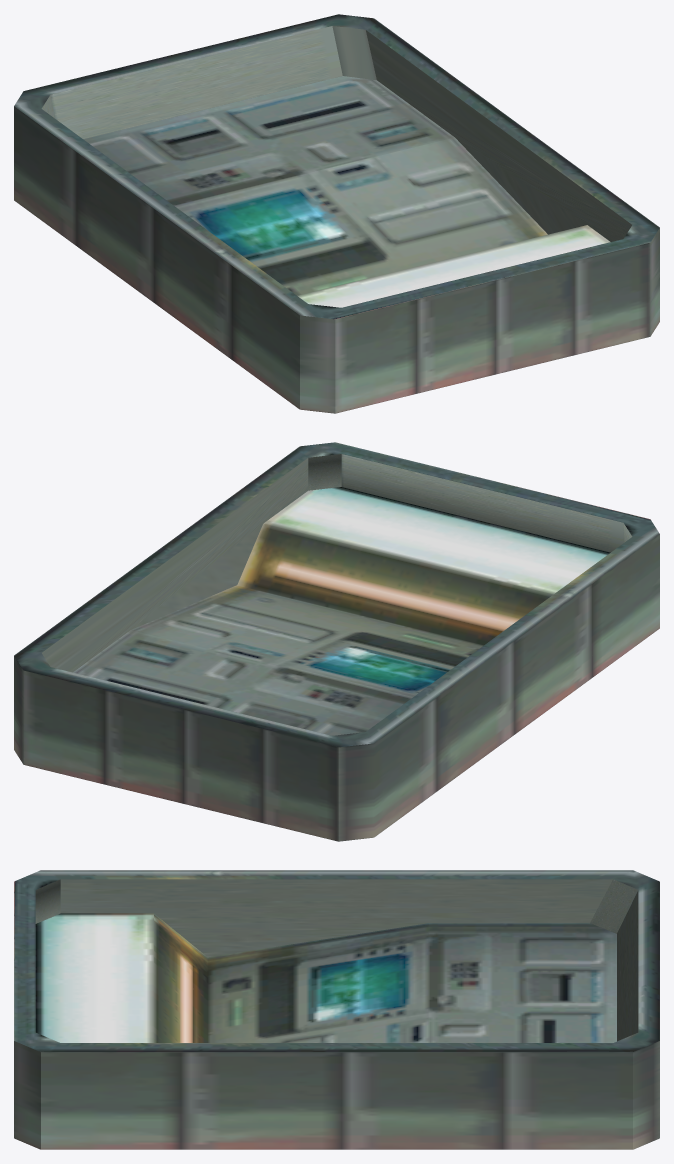
The model's file is atm_wallmount01.fbx.
3 renders of one model, top to bottom at view 1: azimuth 30°, elevation 25°; view 2: azimuth 150°, elevation 25°; view 3: azimuth 270°, elevation 25°, orthographic. The views are drawn at different scales.
Visible parts, largest first — view 1: mesh_0; view 2: mesh_0; view 3: mesh_0.
Part boxes in pixels (left/top/right/bottom): mesh_0: left=14, top=14, right=659, bottom=413; mesh_0: left=14, top=442, right=659, bottom=841; mesh_0: left=14, top=870, right=659, bottom=1149.
Bounding box in the file's own units: 80 × 20 × 120.
Materials: 1 (1 with a texture image).
